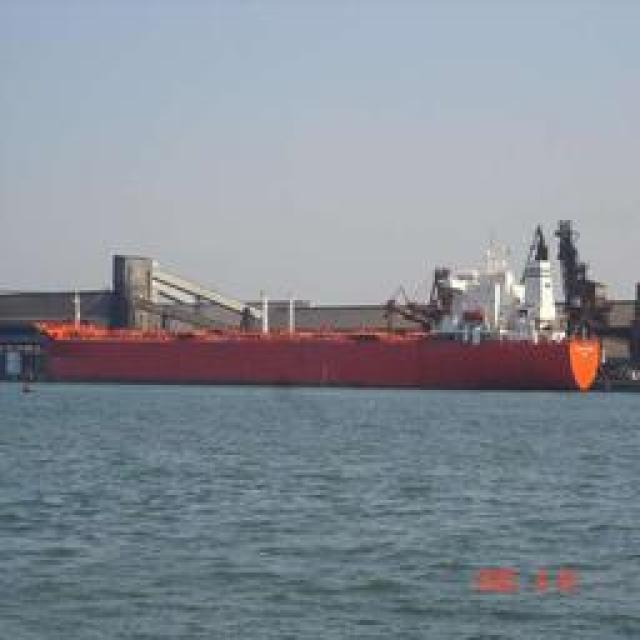CIV_Ship: (35, 266, 603, 392)
